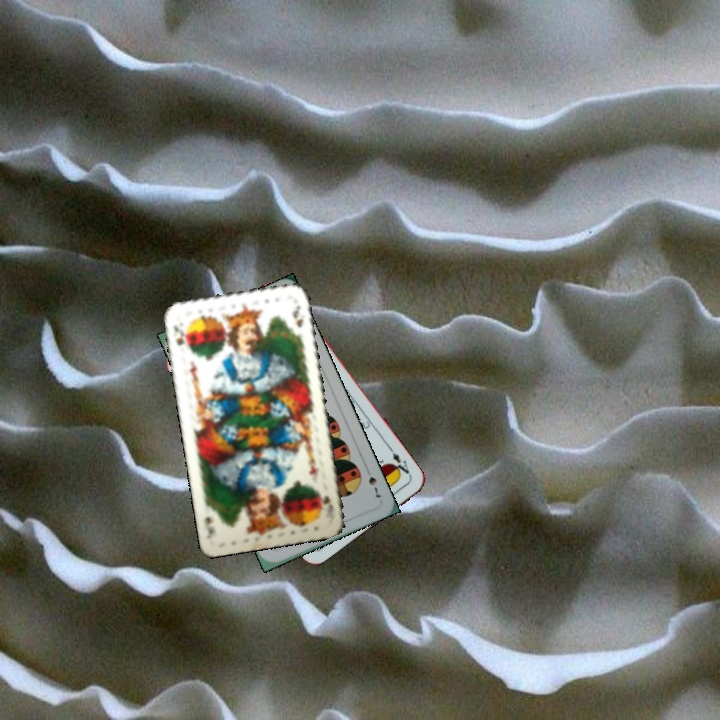EA: (386, 444, 414, 480)
S7: (362, 464, 384, 502)
SK: (170, 321, 191, 350), (317, 488, 336, 516)
